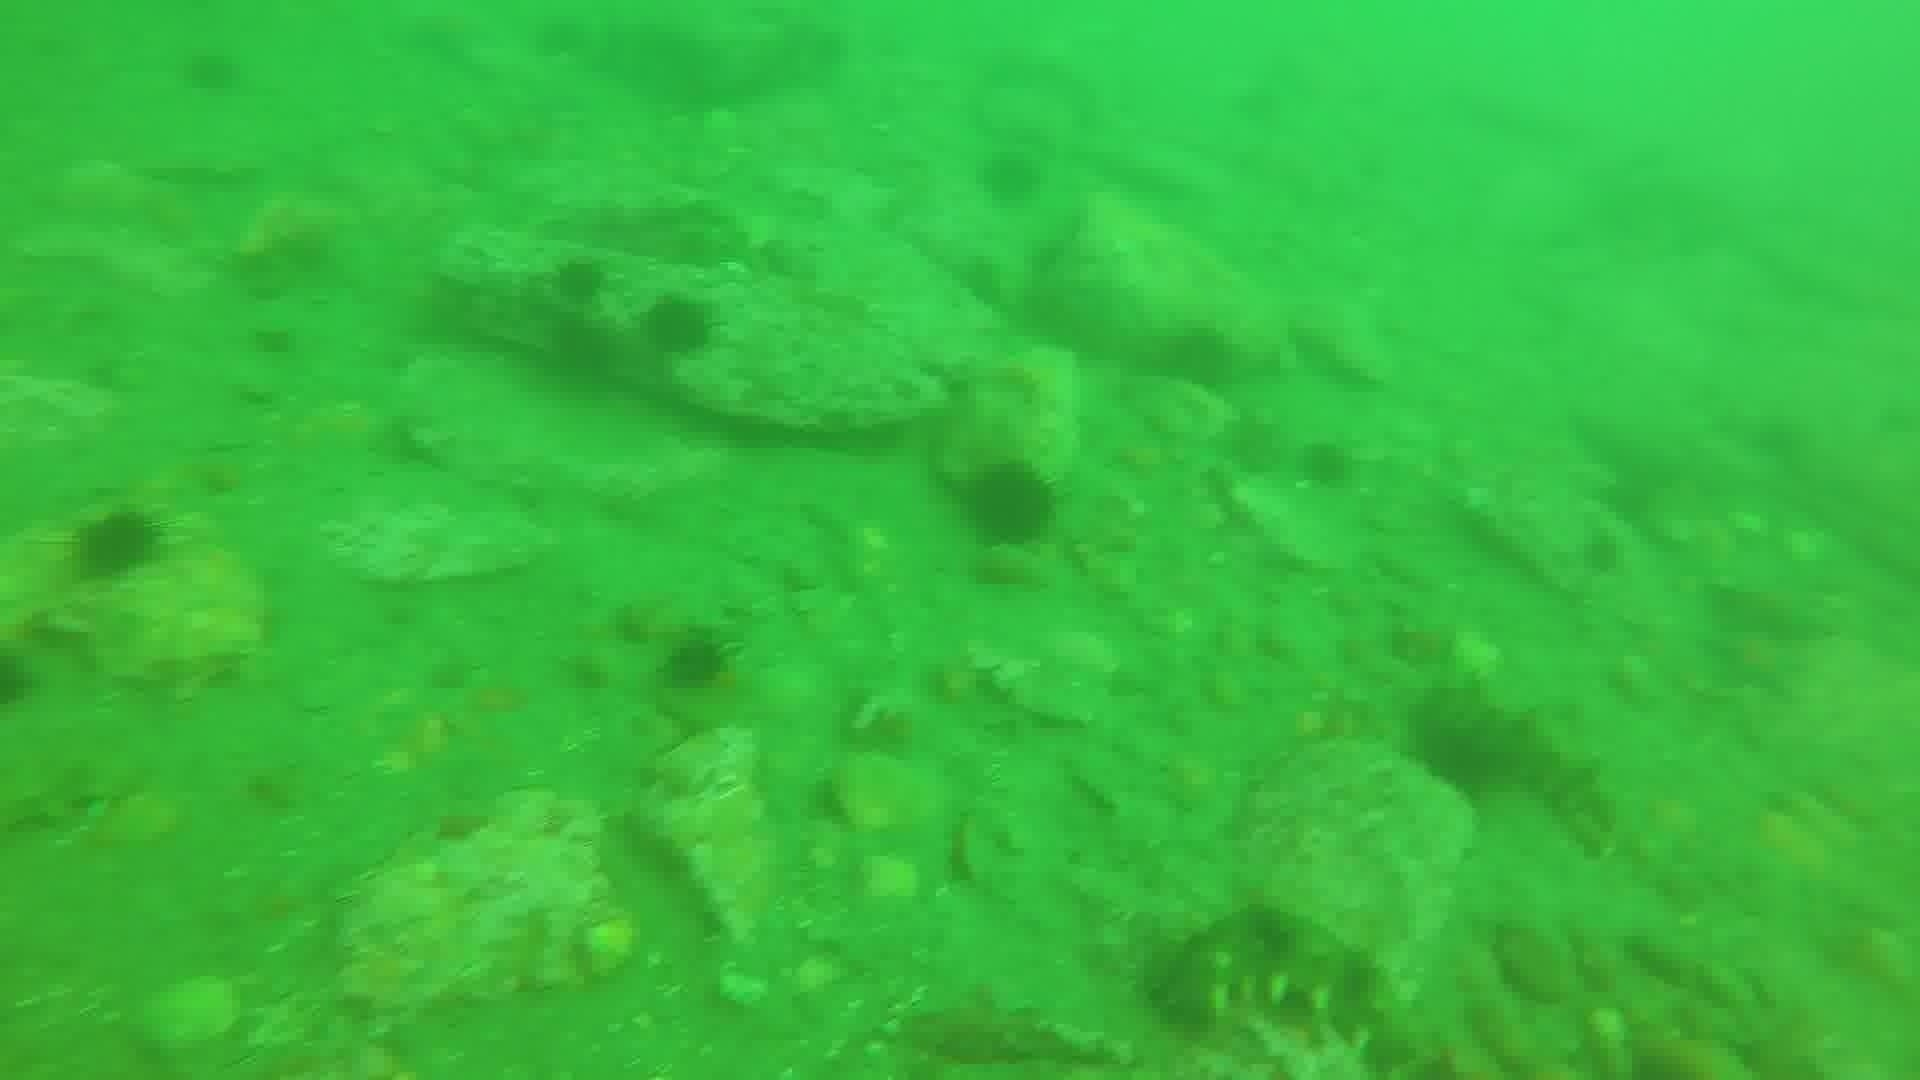echinus: (1379, 724, 1486, 828), (957, 458, 1060, 551), (66, 504, 167, 585), (1154, 320, 1241, 398), (539, 311, 620, 389), (637, 291, 720, 364), (655, 630, 736, 698), (973, 145, 1047, 210), (546, 251, 612, 313), (175, 44, 247, 99), (1294, 436, 1360, 495), (1575, 526, 1630, 580), (1, 647, 26, 725)
holothurian: (1145, 905, 1439, 1065), (1414, 678, 1626, 853)
starfish: (1700, 625, 1809, 702)
